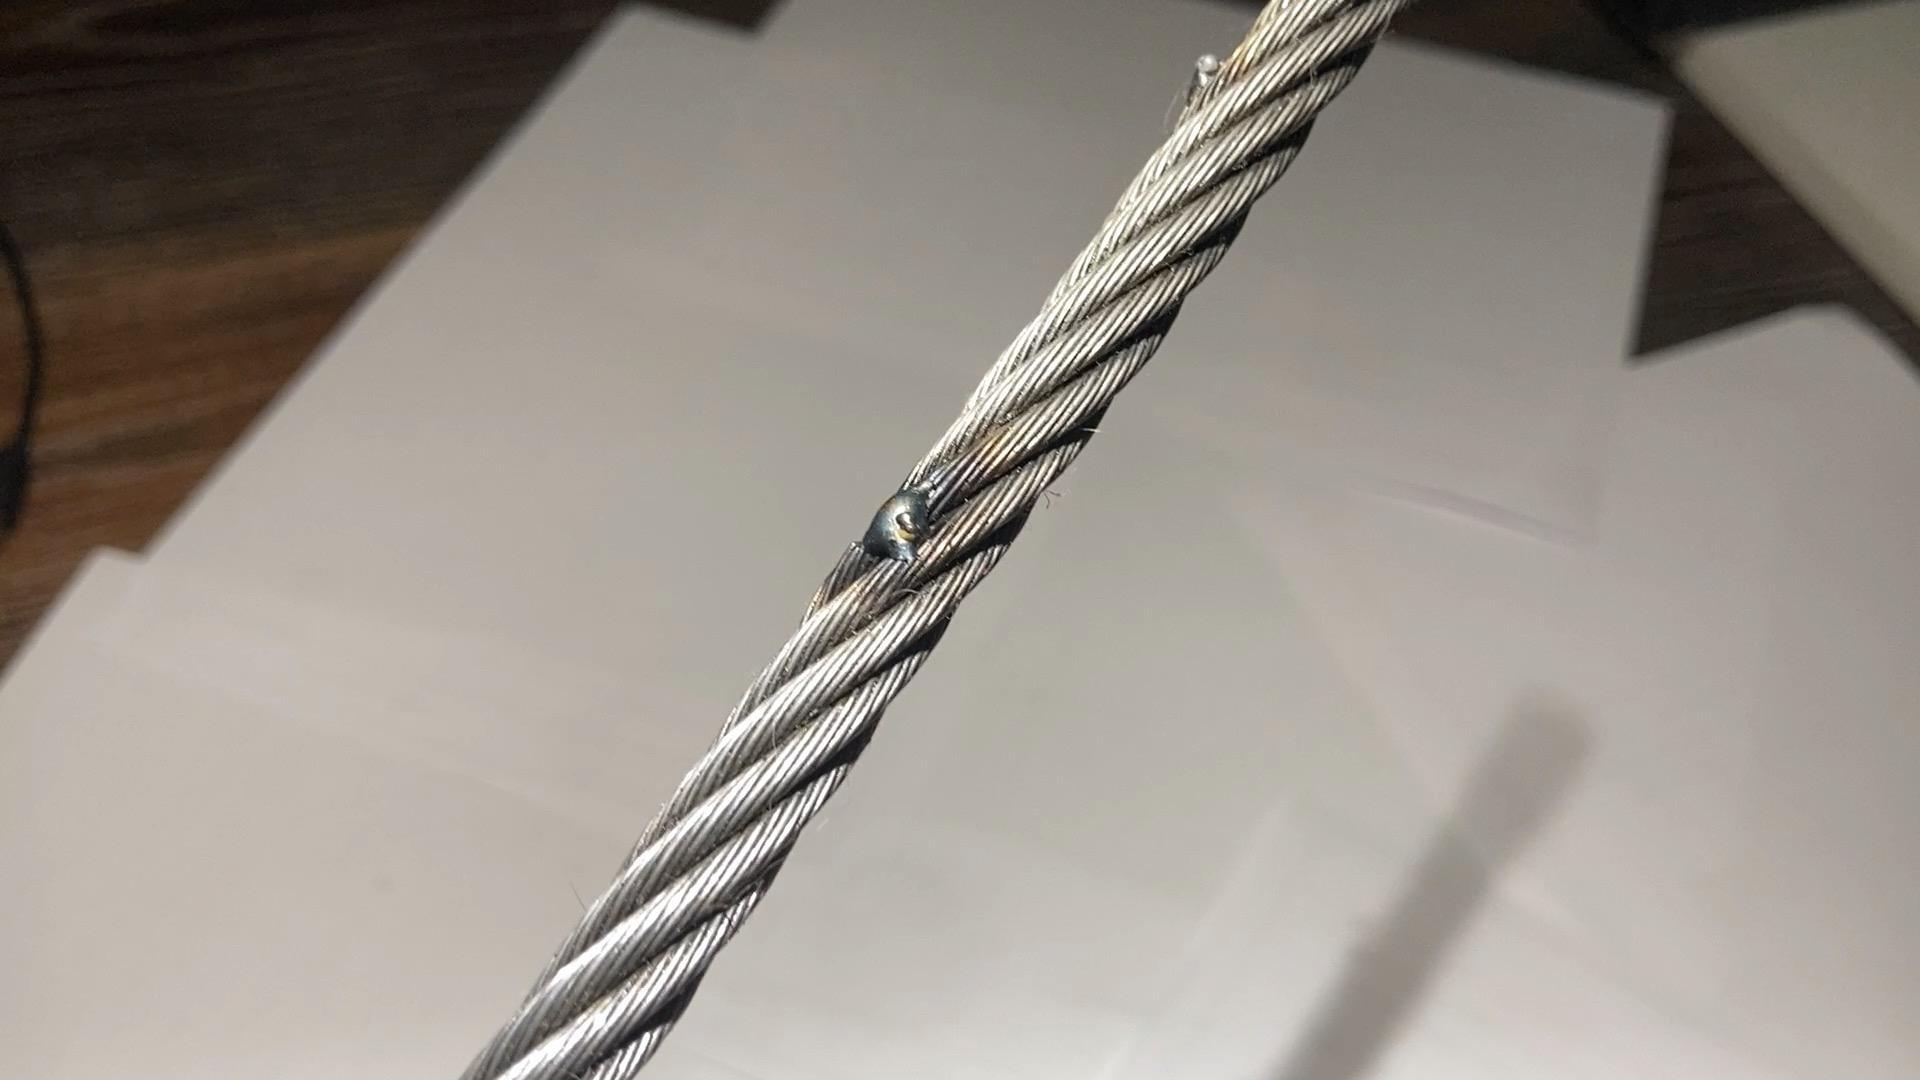thunderbolt: (855, 493, 951, 570)
